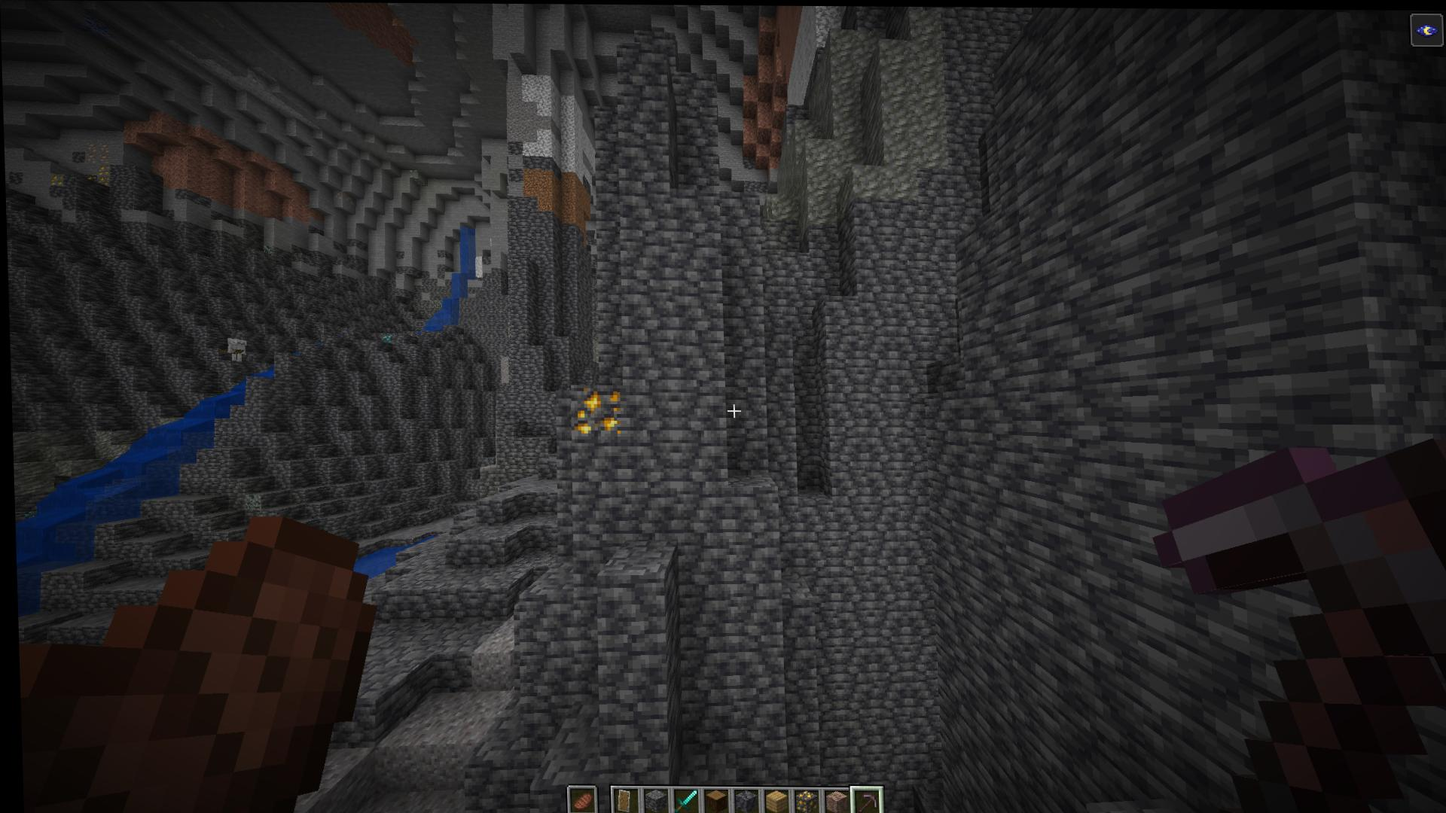diamond ore: (374, 329, 395, 350)
gold ore: (567, 384, 621, 438)
